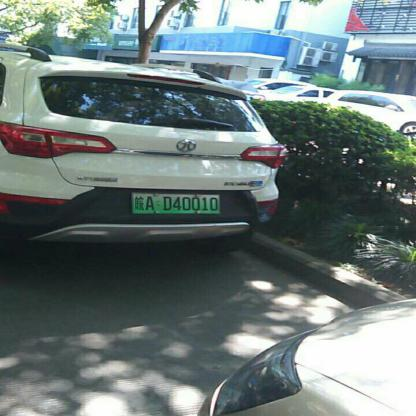lp: (132, 191, 219, 213)
